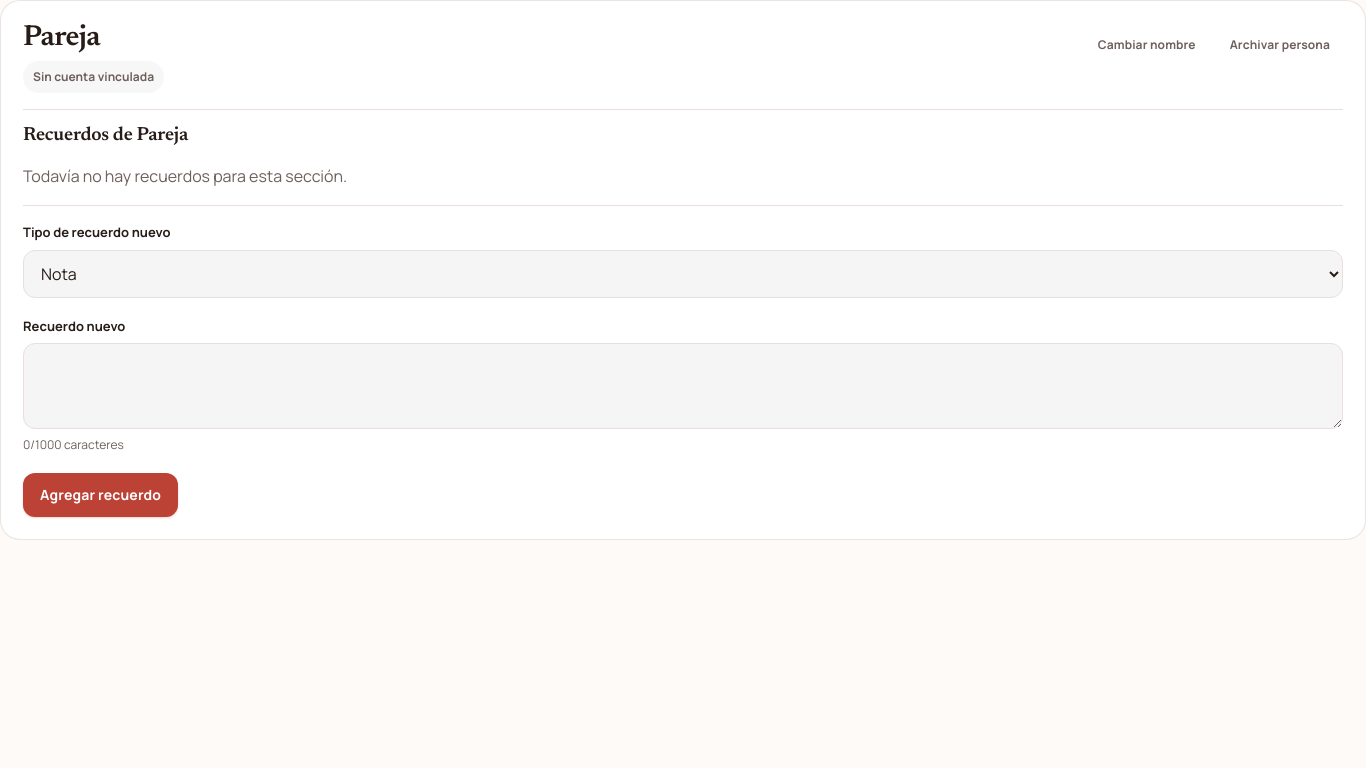
DinerCard › keeps unrelated validation errors in the global status
Click the button with aria-label "Cambiar nombre de Pareja" at [1147, 45], box [1085, 23, 1209, 67]
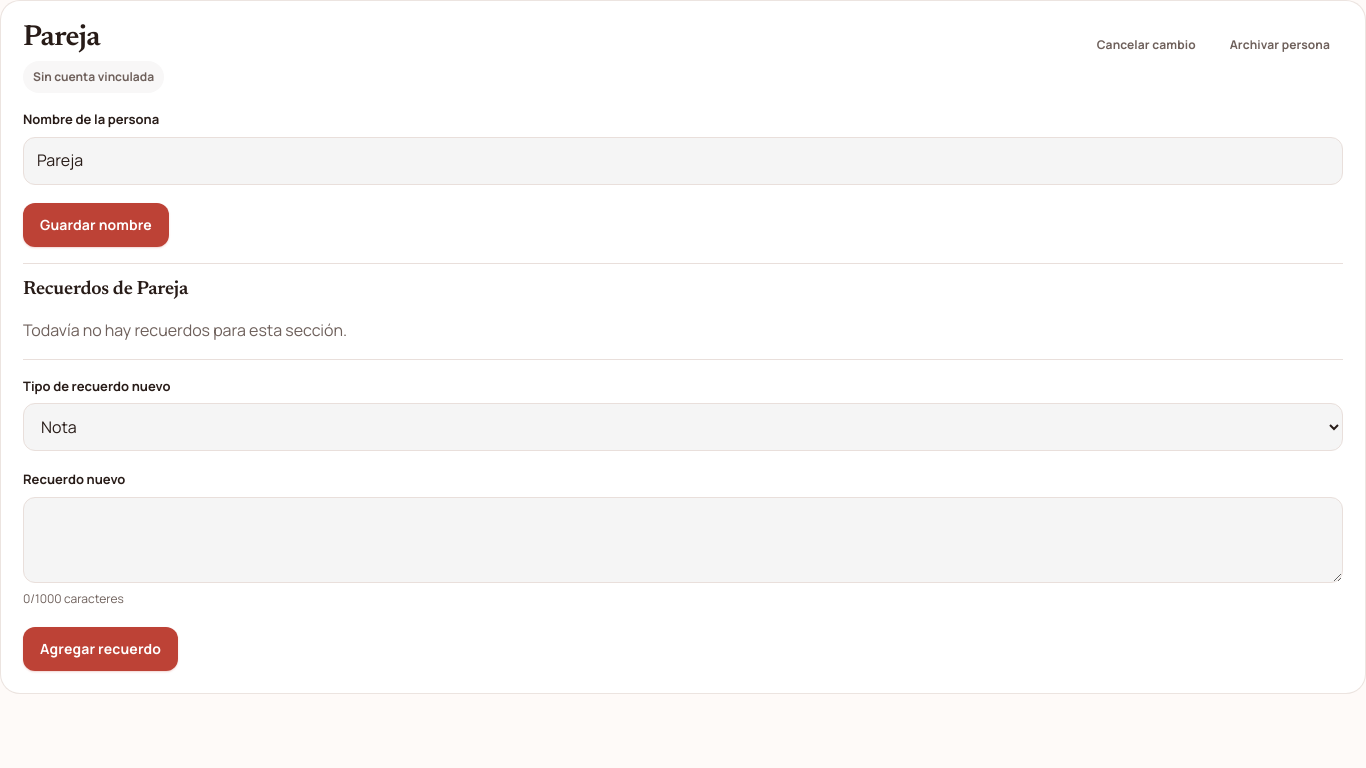
Replace the text in the field labelled "Nombre de la persona" with "Mi pareja" at [683, 161], box [23, 137, 1343, 185]
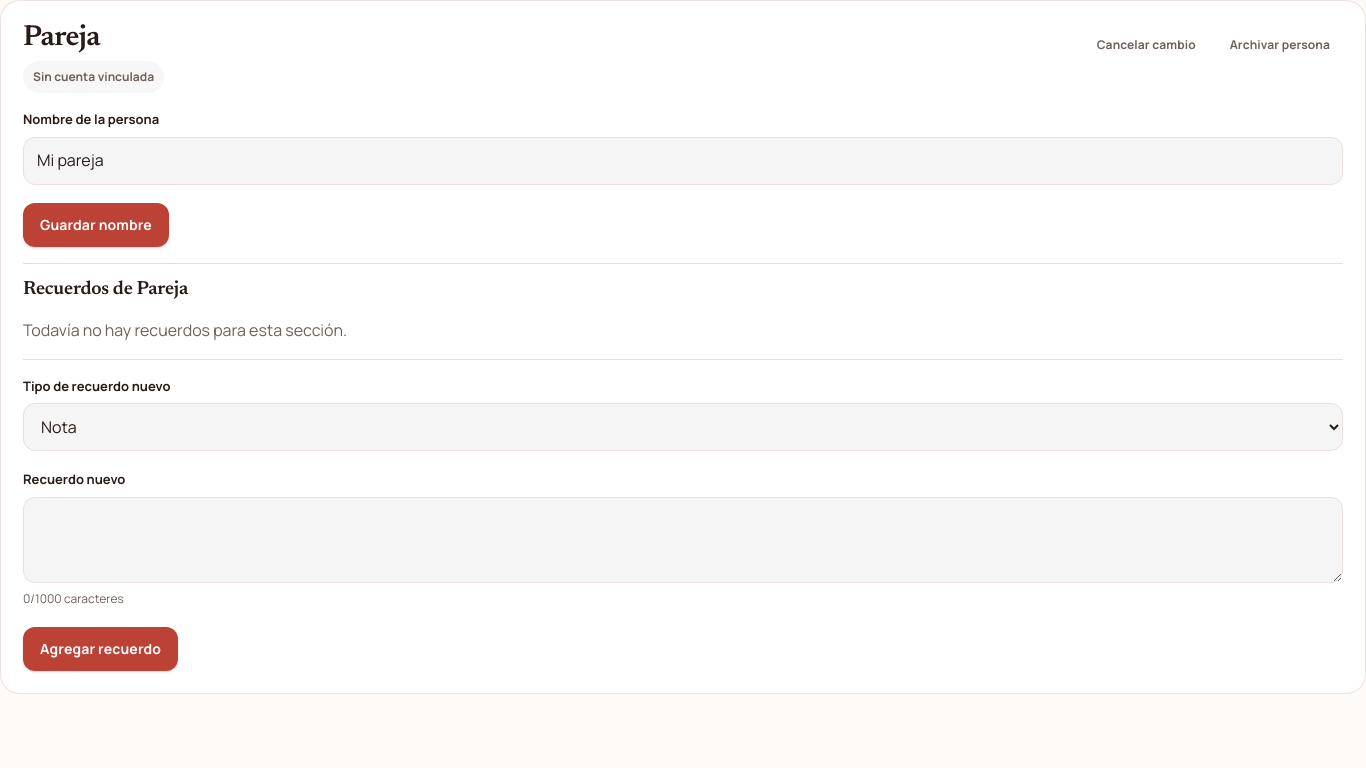
Click the button "Guardar nombre" at [96, 225], box [23, 203, 169, 247]
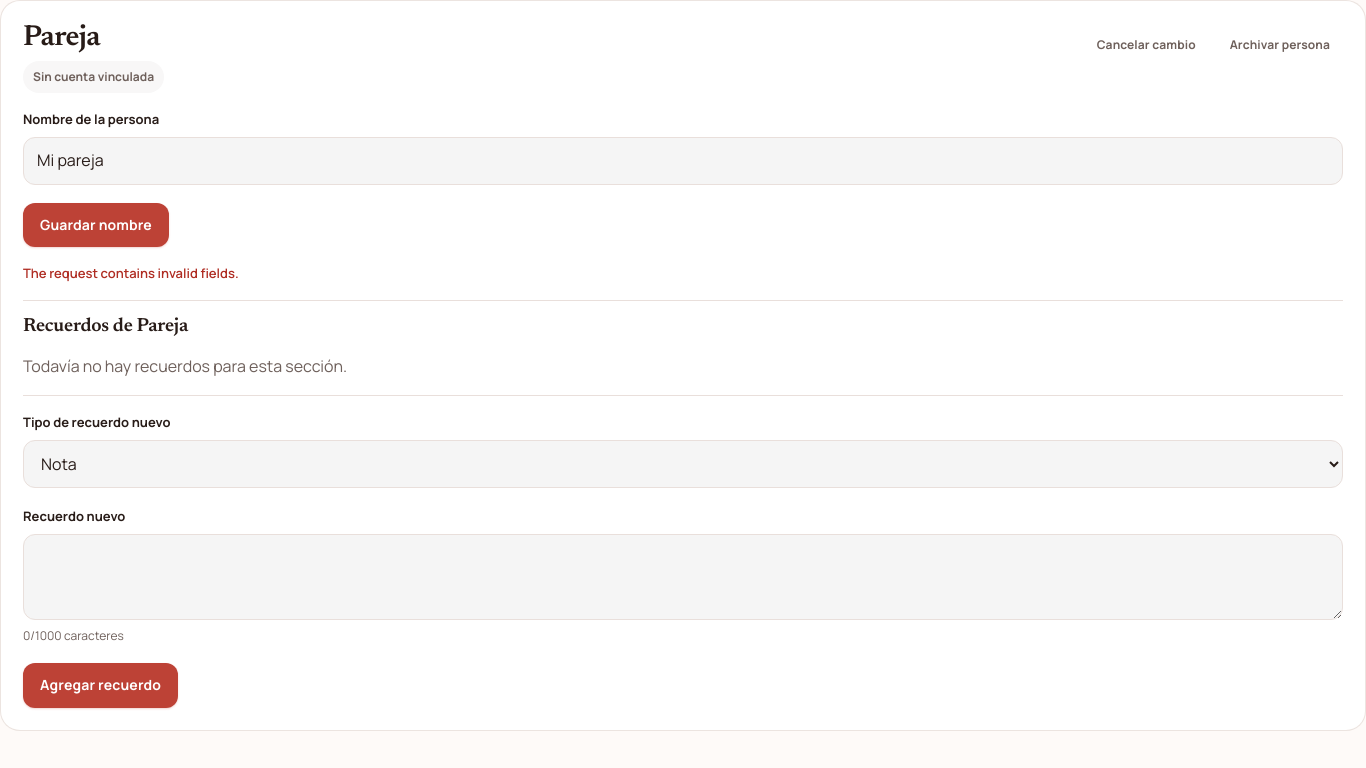
Expected: the message reads "The request contains invalid fields.", [23, 264, 239, 282]
